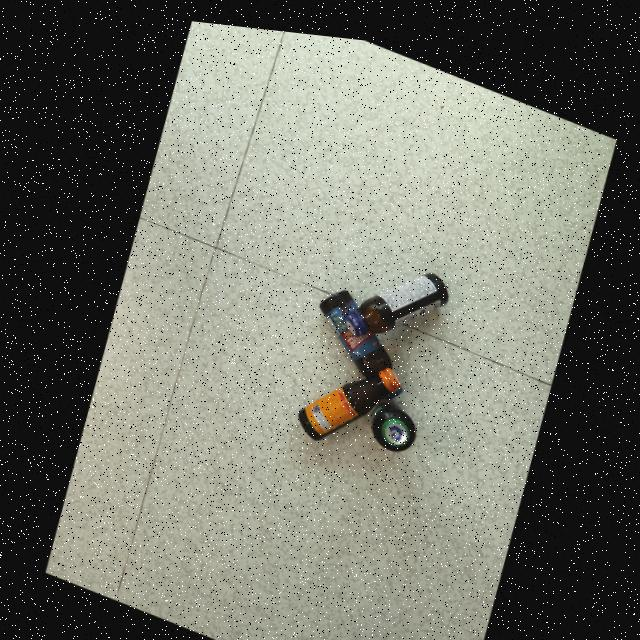energdrink: (317, 281, 401, 393), (294, 358, 398, 433), (342, 262, 446, 327), (368, 392, 412, 442)
